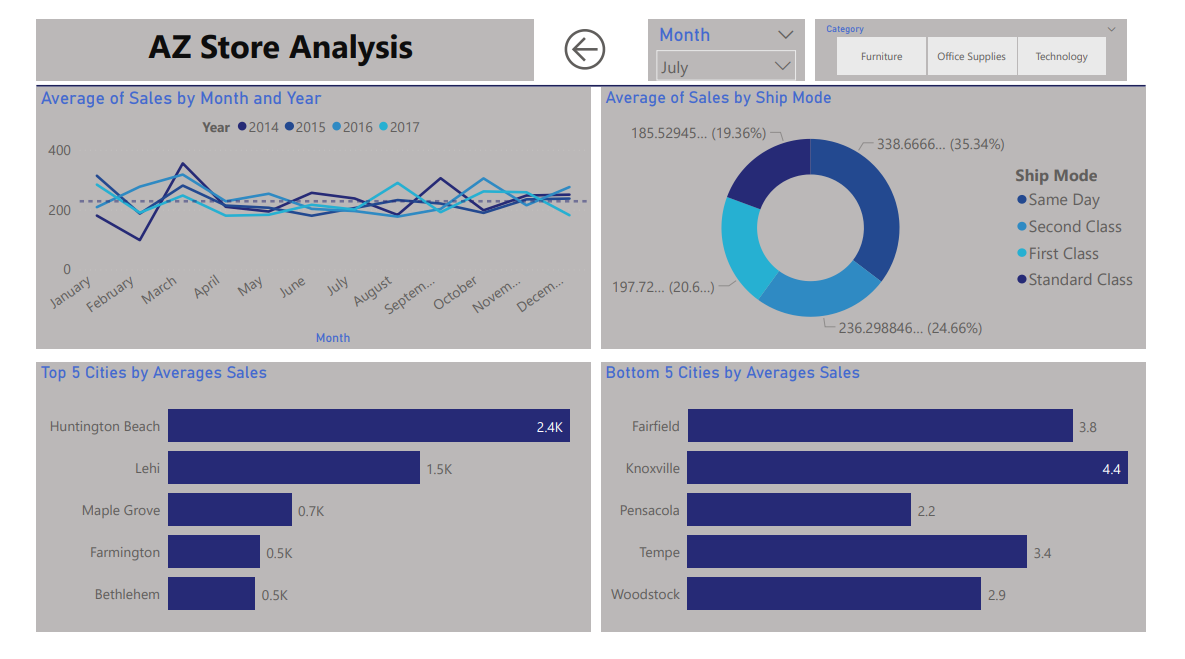

Layout of this report page (visuals, bound fields, positions):
{"tool":"powerbi","page":{"name":"Sales","canvas":[1280,720],"ordinal":0},"visuals":[{"type":"lineChart","fields":{"Y":["Avg(Orders.Sales)"],"Category":["Orders.Order Date.Variation.Date Hierarchy.Month"],"Series":["Orders.Order Date.Variation.Date Hierarchy.Year"]},"box":[0,79,640,302.4],"z":0},{"type":"donutChart","fields":{"Y":["Avg(Orders.Sales)"],"Category":["Orders.Ship Mode"]},"box":[651.8,79,628.2,302.4],"z":1000},{"type":"barChart","title":"Top 5 Cities by Averages Sales","fields":{"Y":["Avg(Orders.Sales)"],"Category":["Orders.City"]},"box":[0,396.4,640,310.8],"z":2000},{"type":"barChart","title":"Bottom 5 Cities by Averages Sales","fields":{"Y":["Avg(Orders.Sales)"],"Category":["Orders.City"]},"box":[651.8,396.4,628.2,310.8],"z":3000},{"type":"slicer","fields":{"Values":["Orders.Category"]},"box":[898.7,0,359.5,70.6],"z":3001},{"type":"slicer","fields":{"Values":["Orders.Order Date.Variation.Date Hierarchy.Month"]},"box":[705.5,0,181.4,70.6],"z":3002},{"type":"actionButton","box":[598,0,97.4,70.6],"z":3003},{"type":"textbox","box":[0,0,574.5,70.6],"z":3004},{"type":"shape","box":[0,70.6,1280,13.4],"z":3005}]}

Visuals, with their boxes in screenshot pixels (x1, y1, x2, y2), scaled from the page's 1280x720 canvas onto the 1185x659 screenshot:
lineChart - Avg(Orders.Sales) x Orders.Order Date.Variation.Date Hierarchy.Month: region(0, 72, 592, 349)
donutChart - Avg(Orders.Sales) x Orders.Ship Mode: region(603, 72, 1184, 349)
"Top 5 Cities by Averages Sales" barChart: region(0, 363, 592, 647)
"Bottom 5 Cities by Averages Sales" barChart: region(603, 363, 1184, 647)
slicer - Orders.Category: region(832, 0, 1165, 65)
slicer - Orders.Order Date.Variation.Date Hierarchy.Month: region(653, 0, 821, 65)
actionButton: region(554, 0, 644, 65)
textbox: region(0, 0, 532, 65)
shape: region(0, 65, 1184, 77)
